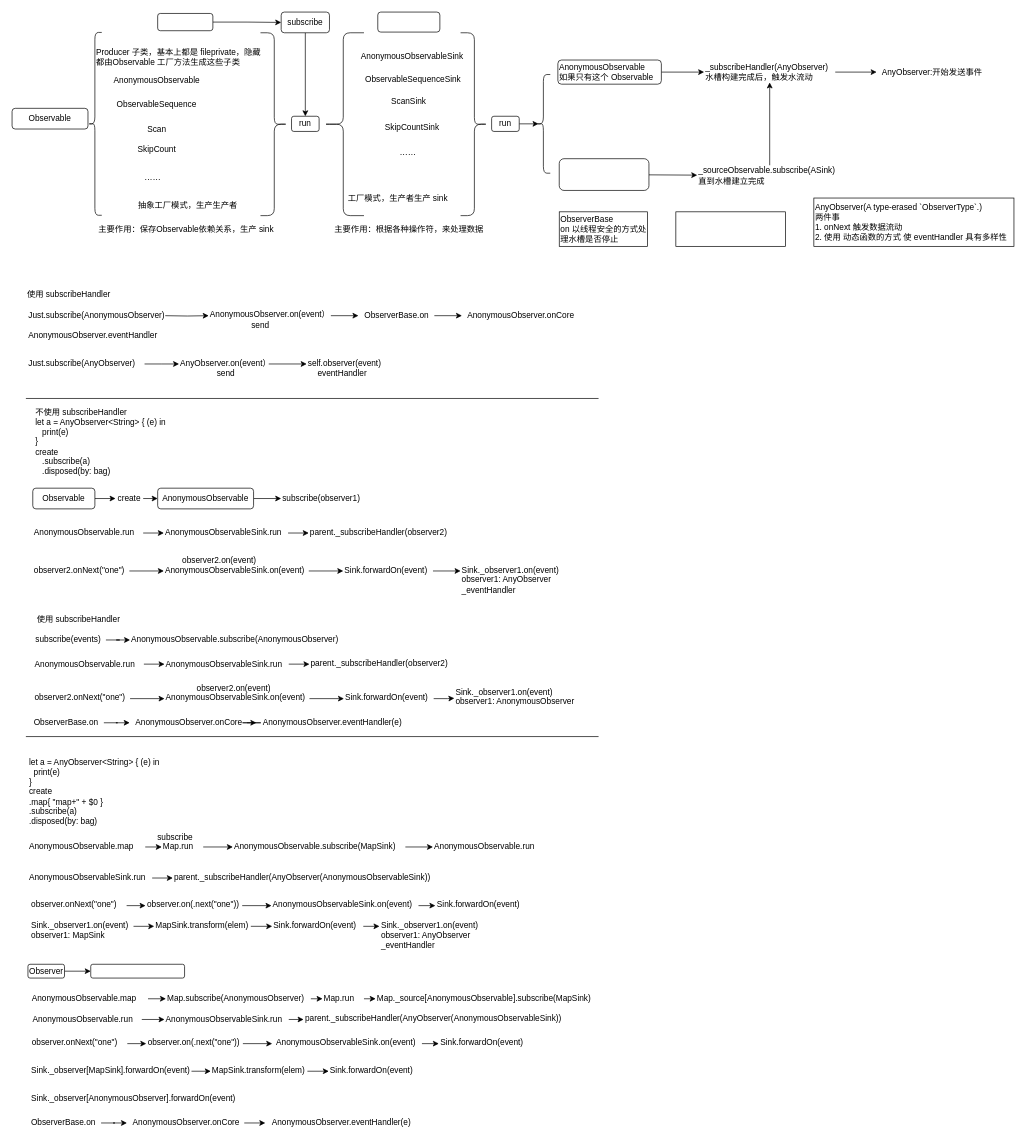
This 1026x1142 diagram has some shape labels left out. Each missing label, with the box of its shape:
AnyObserver.send(elem): (90, 964, 185, 978)
Other Observables（A) 多个操作符连接: (559, 158, 649, 190)
Producer: (157, 13, 213, 31)
Sink: (377, 11, 440, 32)
Sink forwardOn, 以线程安全的而方式判断水槽是否被销毁: (675, 211, 786, 246)
